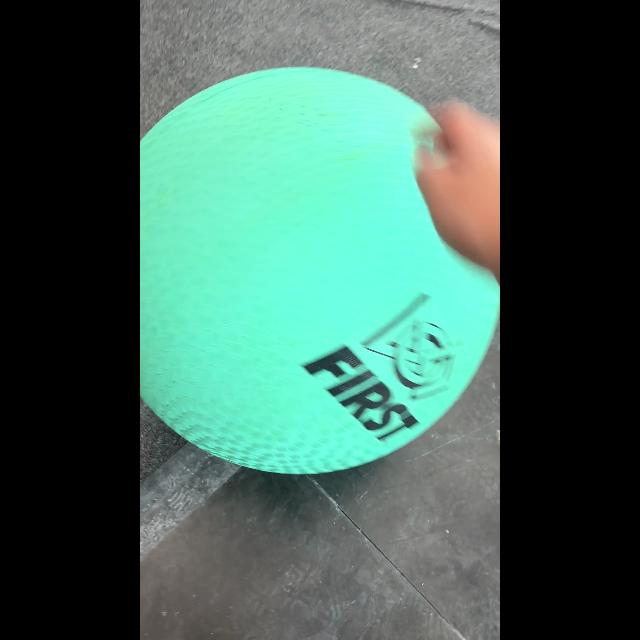ALGAE: (141, 65, 499, 475)
